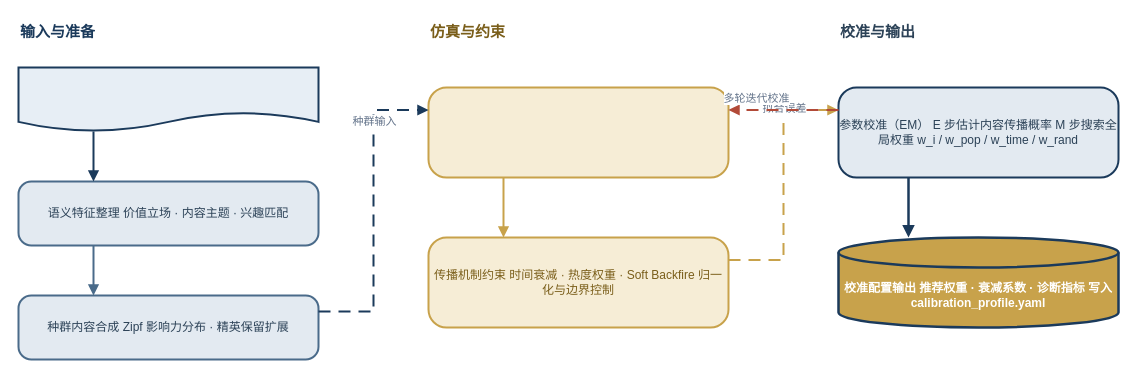
The diagram is 1137 pixels wide and 377 high, and some of its shapes have lost their labels. Each missing label, with the centre of its shape:
向量化仿真引擎 批量计算用户—内容匹配分数 生成候选传播结果: (x=578, y=132)
画像与观测数据 用户画像 · 内容数据 · 真实传播指标: (x=168, y=99)
